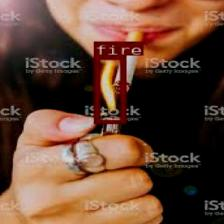fire: (92, 55, 124, 123)
